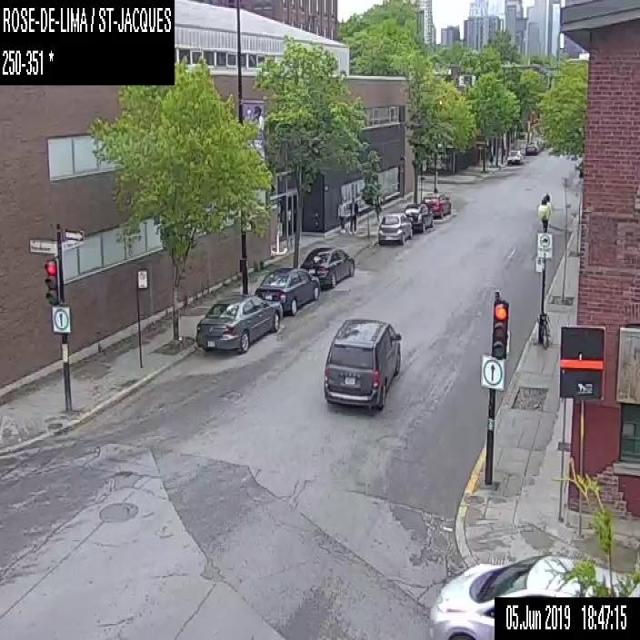pedestrian: (347, 195, 358, 233), (336, 196, 347, 233)
vehicle: (428, 552, 586, 639), (321, 316, 401, 409), (195, 291, 284, 353), (255, 264, 322, 314), (298, 244, 356, 288), (376, 211, 411, 244), (403, 202, 433, 229), (421, 192, 451, 216), (601, 564, 623, 581), (506, 147, 521, 164), (524, 138, 538, 154)
